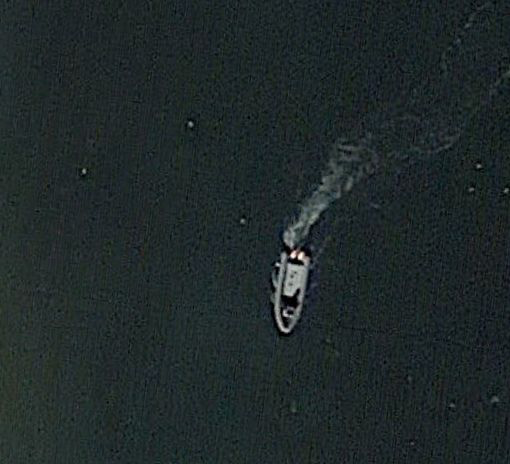boat: (269, 249, 313, 337)
